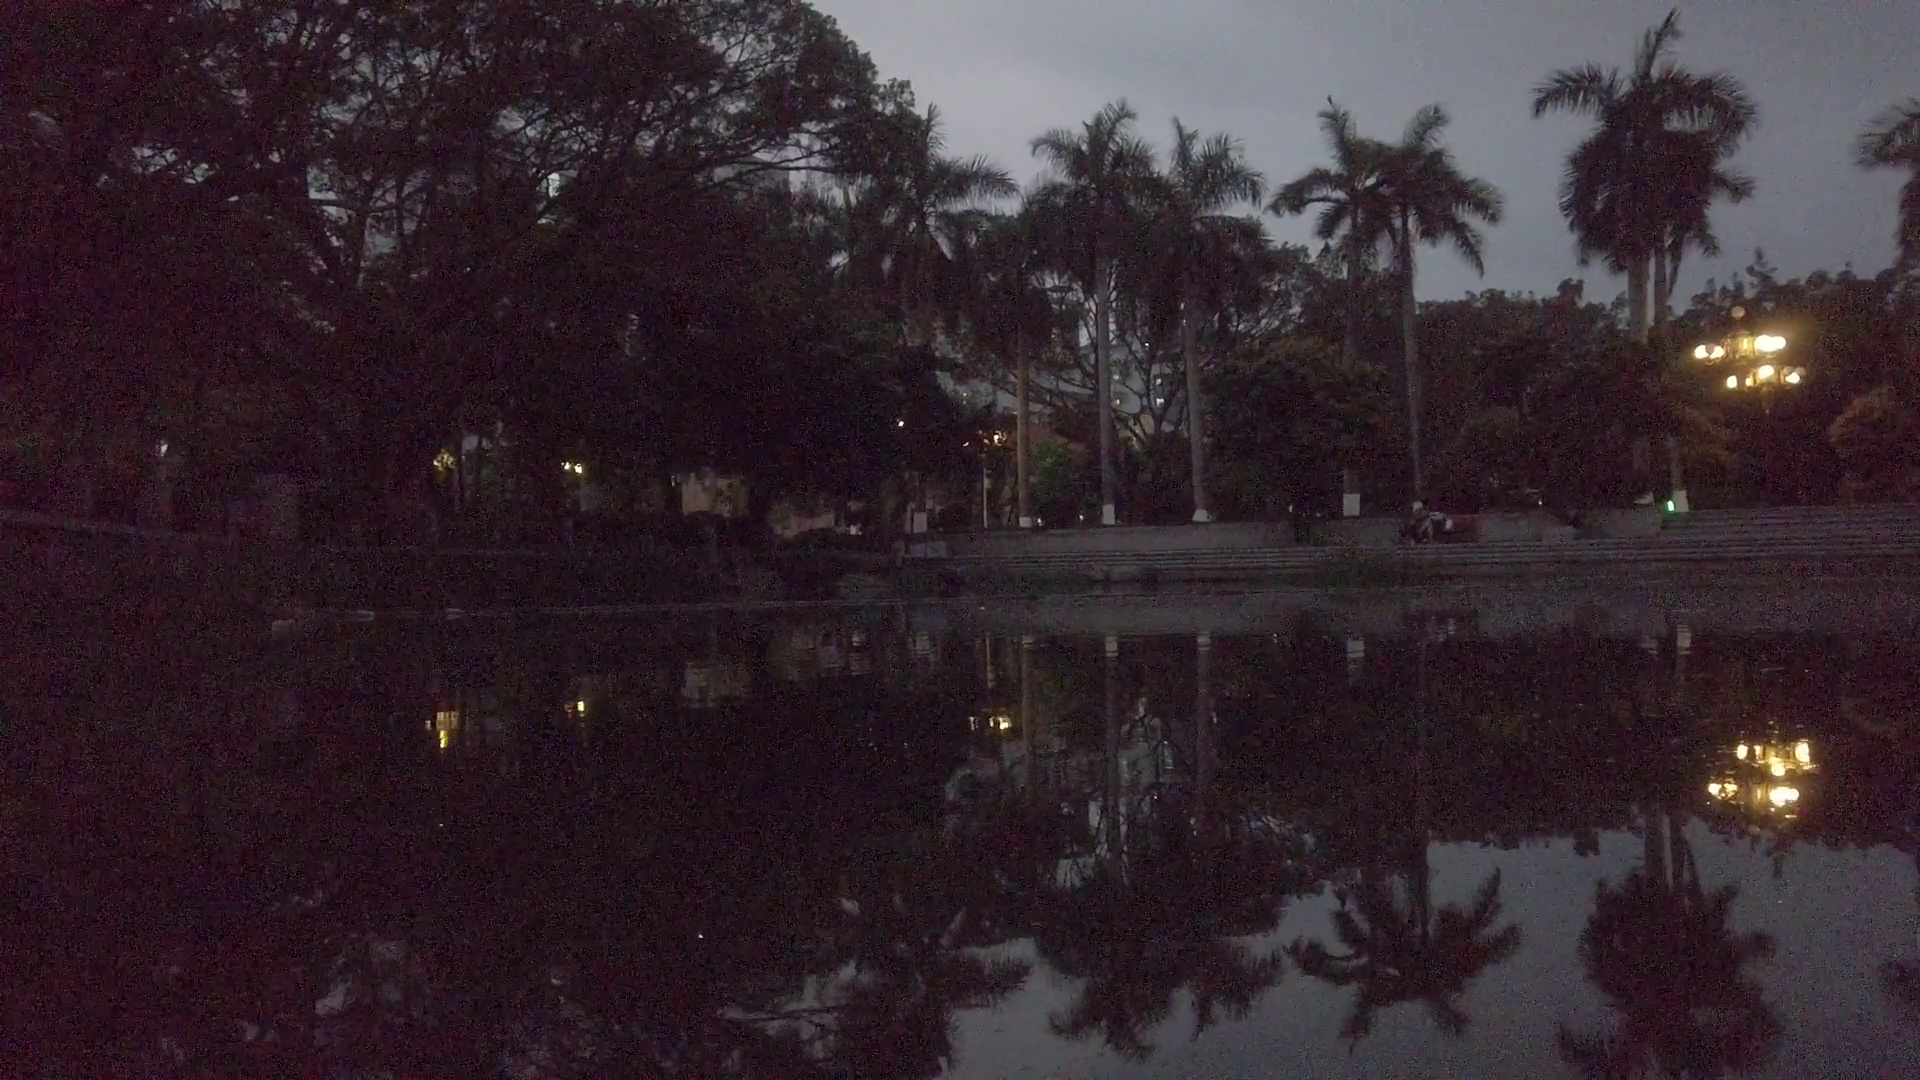bottle: (272, 618, 295, 629), (448, 607, 464, 618), (357, 609, 373, 618)
